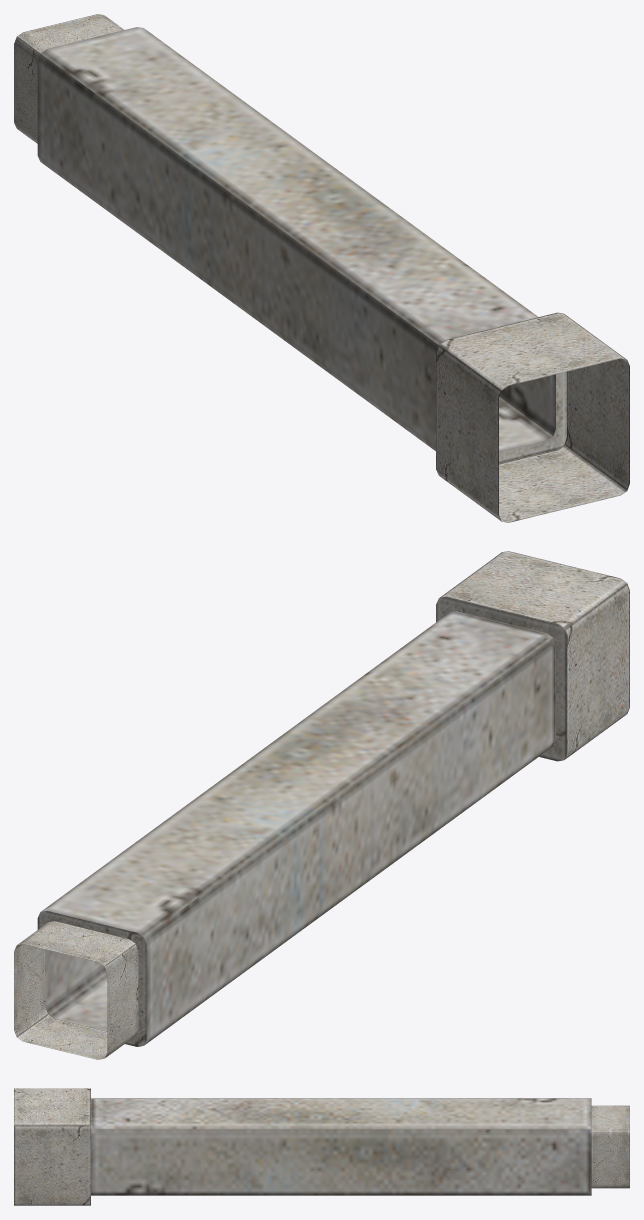
The model's file is SM_SYD_Pillar_Interior.fbx.
3 views of the same model, one above another, from view 1: azimuth 30°, elevation 25°; view 2: azimuth 150°, elevation 25°; view 3: azimuth 270°, elevation 25° (orthographic). The views are drawn at different scales.
Parts seen in each view (by area): view 1: SM_Pillar_Interior; view 2: SM_Pillar_Interior; view 3: SM_Pillar_Interior.
Boxes of the visible parts, <box> form: SM_Pillar_Interior: <box>14,14,629,522</box>; SM_Pillar_Interior: <box>14,551,629,1059</box>; SM_Pillar_Interior: <box>14,1088,629,1205</box>.
Size of the model in its own units: 90 by 90 by 600.
